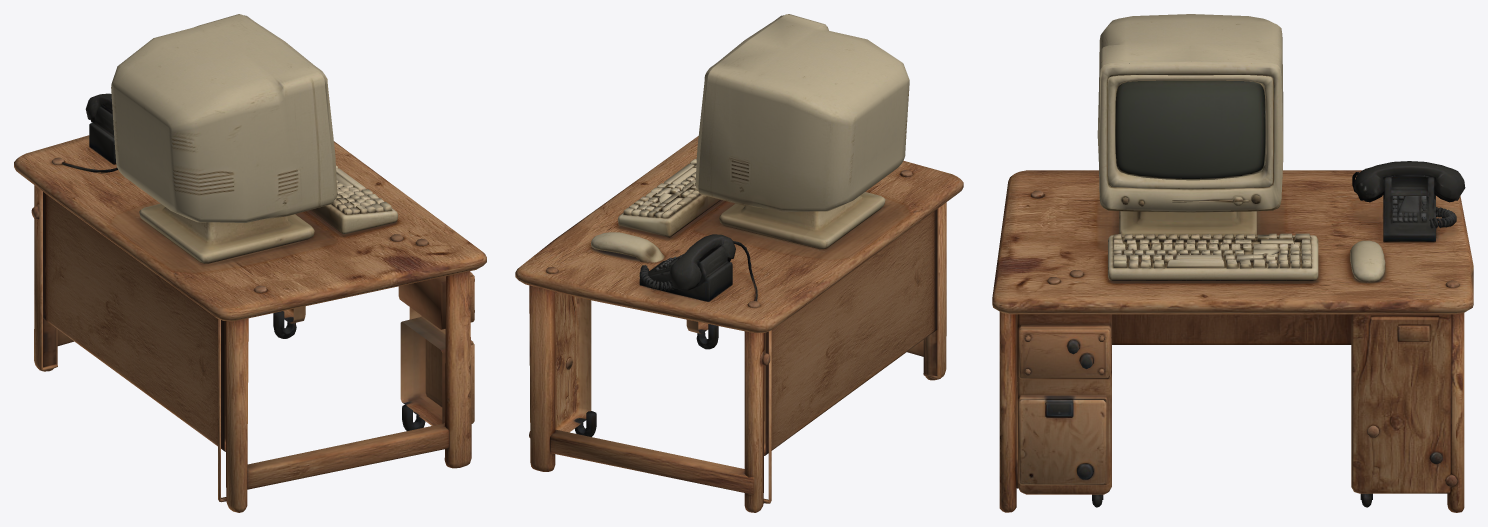
The model's file is prop-computer-desk-v01.glb.
3 renders of one model, left to right at view 1: azimuth 30°, elevation 25°; view 2: azimuth 150°, elevation 25°; view 3: azimuth 270°, elevation 25°, orthographic. The views are drawn at different scales.
Parts seen in each view (by area): view 1: tripo_node_25925581-e46e-4009-be5a-aa4bf8ffc540; view 2: tripo_node_25925581-e46e-4009-be5a-aa4bf8ffc540; view 3: tripo_node_25925581-e46e-4009-be5a-aa4bf8ffc540.
Part boxes in pixels (x1,y1,x2,y2): tripo_node_25925581-e46e-4009-be5a-aa4bf8ffc540: (14, 14, 486, 512); tripo_node_25925581-e46e-4009-be5a-aa4bf8ffc540: (515, 14, 963, 512); tripo_node_25925581-e46e-4009-be5a-aa4bf8ffc540: (992, 14, 1473, 512).
Bounding box in the file's own units: 0.9215 × 1.26 × 1.37.
1 material, 1 textured.
